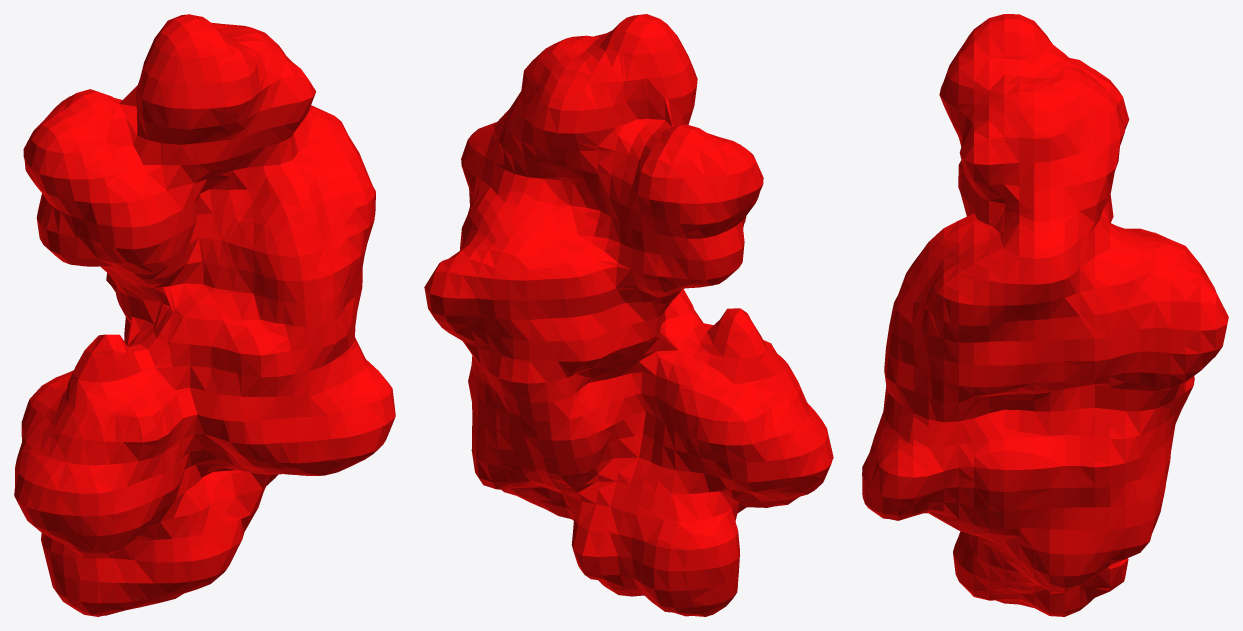
Rendered from lrp_coarse.dae.
The picture shows the model from 3 angles, left to right: view 1: azimuth 30°, elevation 25°; view 2: azimuth 150°, elevation 25°; view 3: azimuth 270°, elevation 25°; orthographic projection. The views are drawn at different scales.
Visible parts, largest first — view 1: lrp; view 2: lrp; view 3: lrp.
Boxes of the visible parts, box(x1,y1,x2,y2) form: lrp: box(14, 14, 395, 616); lrp: box(424, 14, 833, 616); lrp: box(862, 14, 1228, 616).
Bounding box in the file's own units: 67.29 × 108 × 58.26.
